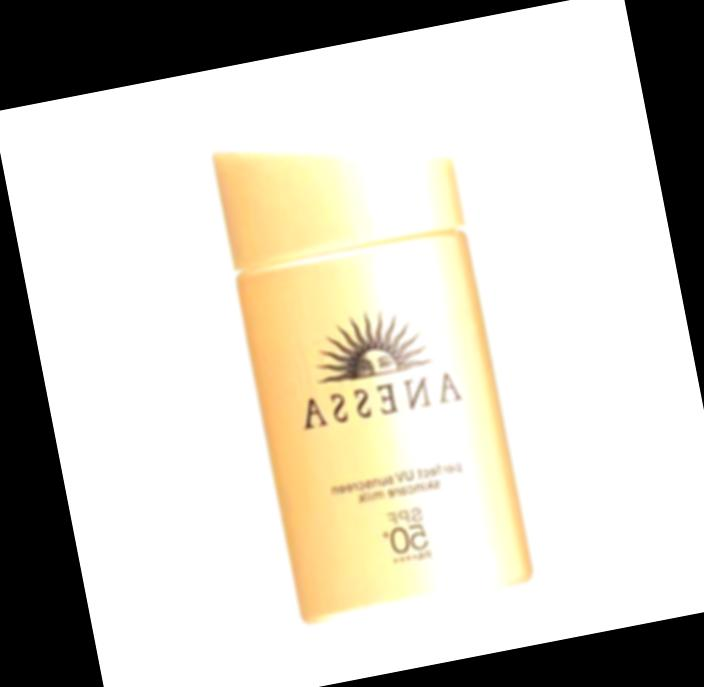cosmetic: (207, 103, 531, 620)
